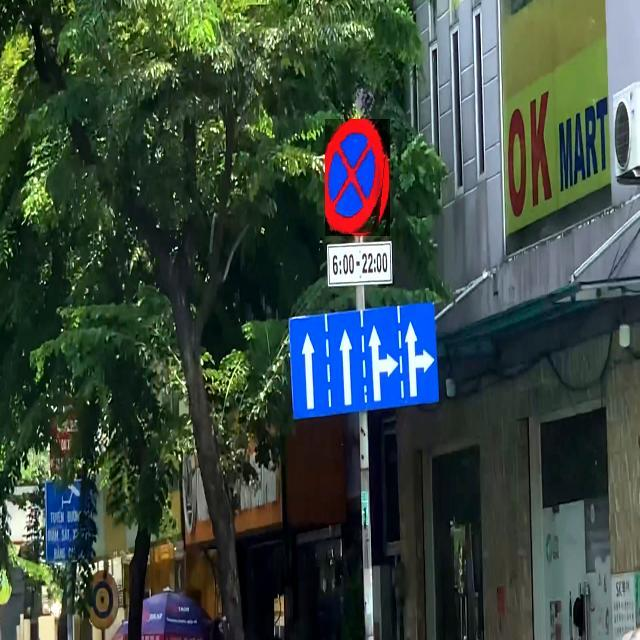P-130: (325, 119, 390, 236)
